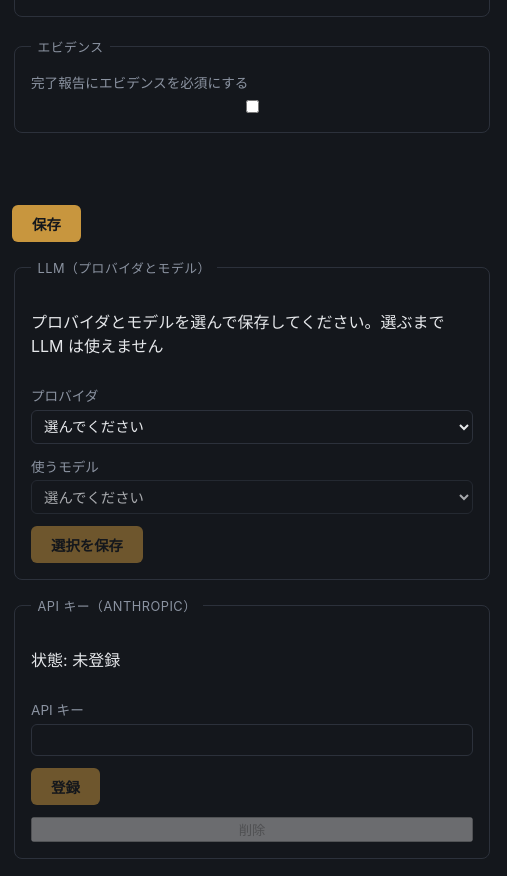
it: 設定画面の選択の欄（製品版） › S2-V3: OpenAI と gpt-6-luna を選んで保存すると、PUT /api/llm-selection が { provider, model } で呼ばれ、「保存しました」が表示される
(page scrolled)
Select "OpenAI" in the dropdown labelled "プロバイダ" at (252, 427), box [31,410,473,444]
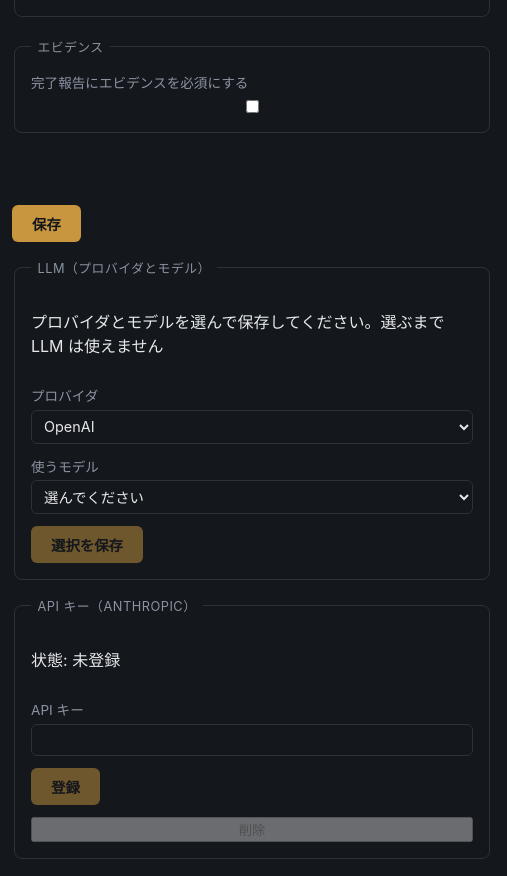
Select "GPT-6 Luna" in the dropdown labelled "使うモデル" at (252, 497), box [31,480,473,514]
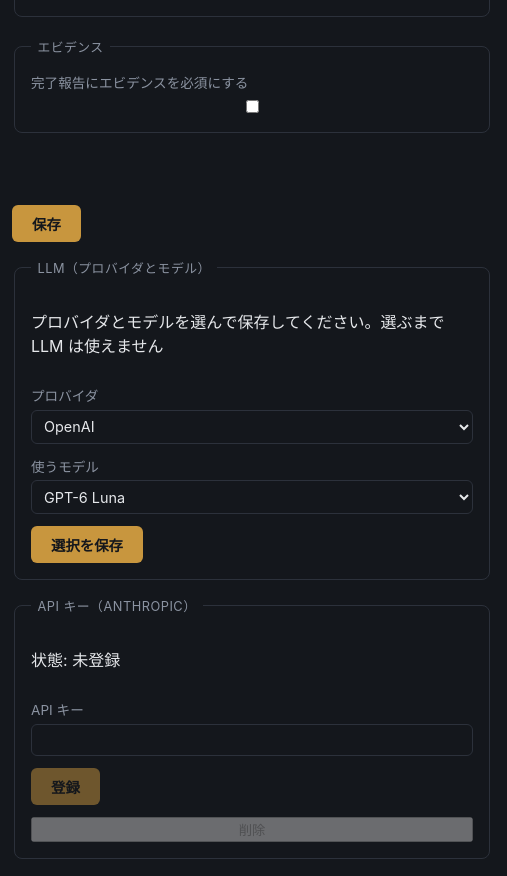
Click the button "選択を保存" at (87, 545), box [31,526,143,563]
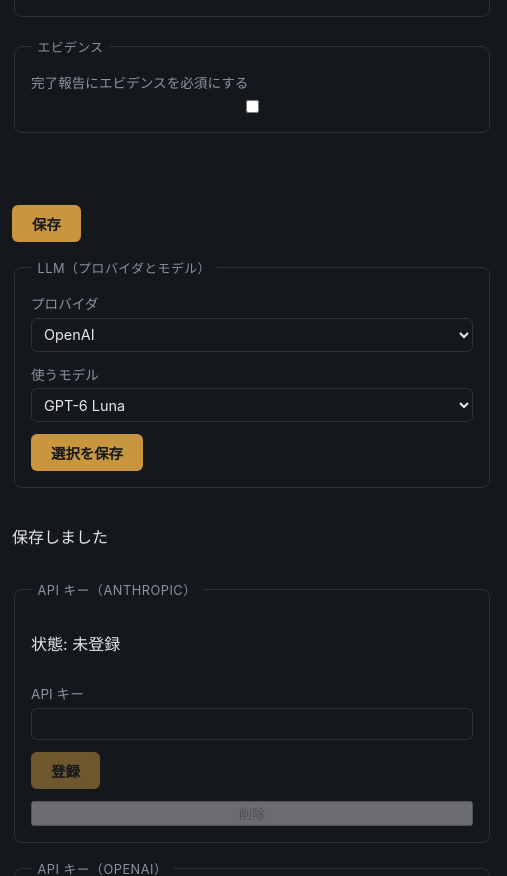
Now the text "保存しました" is shown, box [12,527,108,547]
